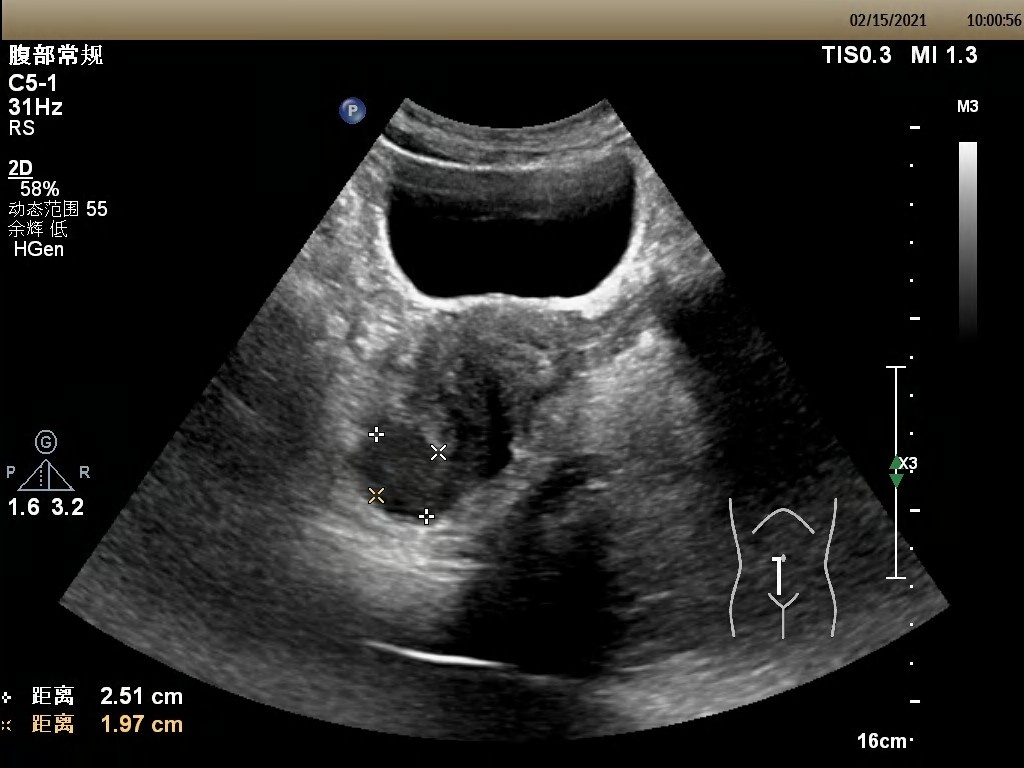肌瘤: (370, 432, 447, 518)
